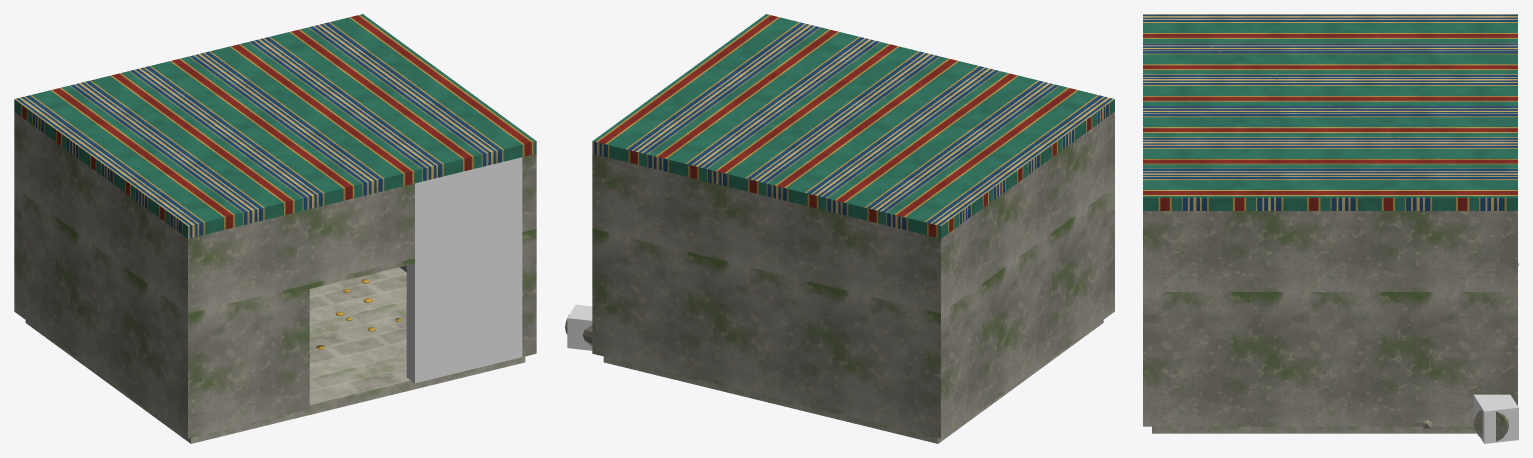
The model's file is hidden_vault.glb.
The picture shows the model from 3 angles, left to right: view 1: azimuth 30°, elevation 25°; view 2: azimuth 150°, elevation 25°; view 3: azimuth 270°, elevation 25°; orthographic projection. The views are drawn at different scales.
Visible parts, largest first — view 1: Walls, Ceiling, ShellFront-convcolonly.001, Floor; view 2: Walls, Ceiling, Floor, DrumCol-convcolonly.001; view 3: Walls, Ceiling, Floor, DrumCol-convcolonly.001, PillarDrum.001.
Boxes of the visible parts, x1=… form: Walls: x1=14, y1=112, x2=536, y2=438; Ceiling: x1=14, y1=14, x2=536, y2=238; ShellFront-convcolonly.001: x1=406, y1=157, x2=522, y2=383; Floor: x1=25, y1=267, x2=525, y2=443; Walls: x1=592, y1=112, x2=1114, y2=438; Ceiling: x1=592, y1=14, x2=1114, y2=238; Floor: x1=603, y1=320, x2=1103, y2=443; DrumCol-convcolonly.001: x1=567, y1=304, x2=592, y2=350; Walls: x1=1143, y1=211, x2=1517, y2=426; Ceiling: x1=1143, y1=14, x2=1517, y2=210; Floor: x1=1152, y1=426, x2=1476, y2=433; DrumCol-convcolonly.001: x1=1473, y1=394, x2=1518, y2=443; PillarDrum.001: x1=1421, y1=410, x2=1509, y2=441.
Size of what is drawn, in the model's own units: 7.98 by 4.45 by 6.31.
Materials: 9 (9 with a texture image).
